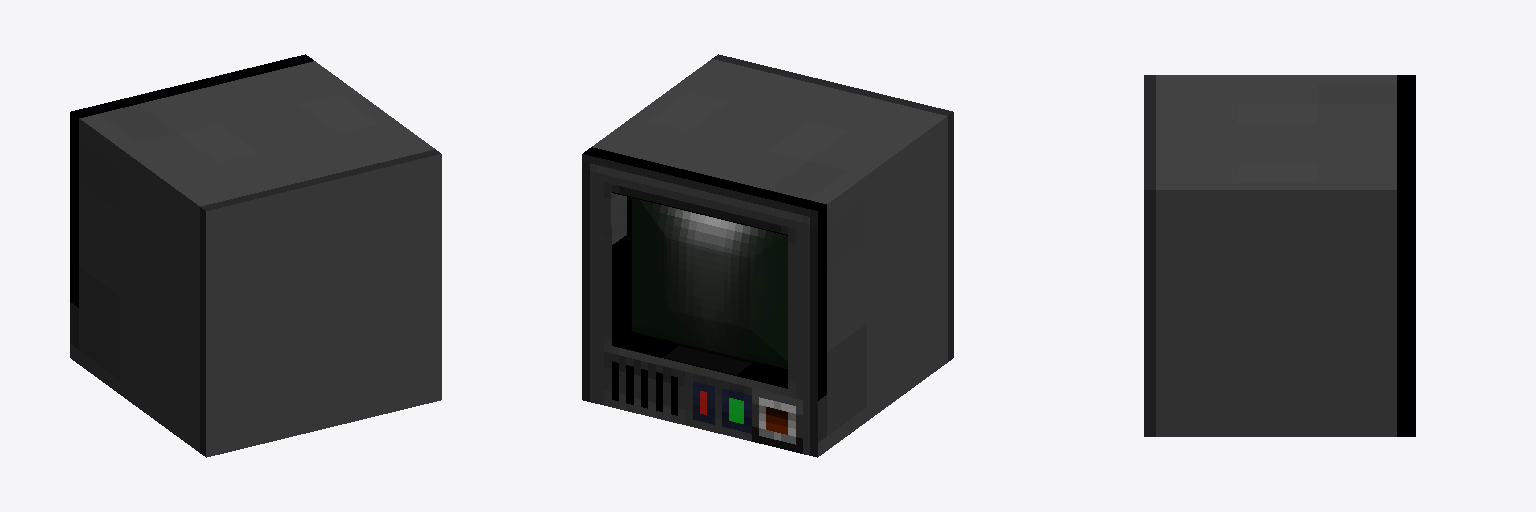
3 renders of one model, left to right at view 1: azimuth 30°, elevation 25°; view 2: azimuth 150°, elevation 25°; view 3: azimuth 270°, elevation 25°, orthographic.
Parts seen in each view (by area): view 1: tv; view 2: tv; view 3: tv.
Boxes of the visible parts, x1=… form: tv: x1=70, y1=54, x2=441, y2=457; tv: x1=582, y1=54, x2=953, y2=457; tv: x1=1144, y1=75, x2=1415, y2=436.
Size of the model in its own units: 0.2503 by 0.2503 by 0.2503.
1 materials, 1 textured.